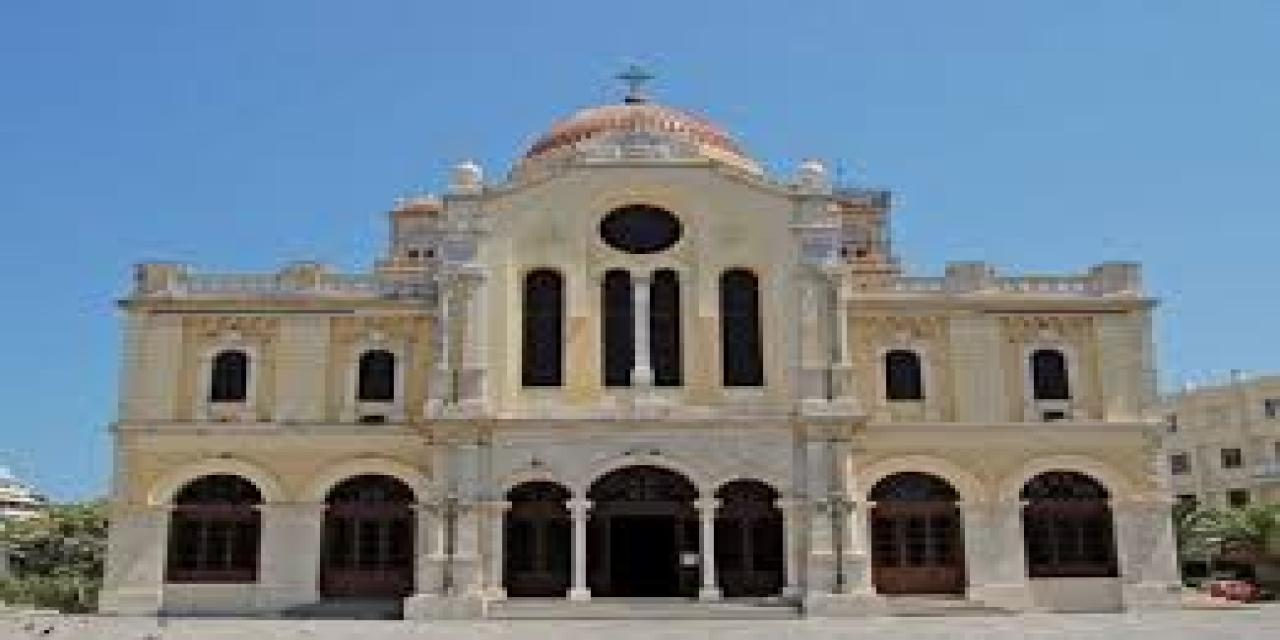Agios Minas: (100, 52, 1215, 619)
